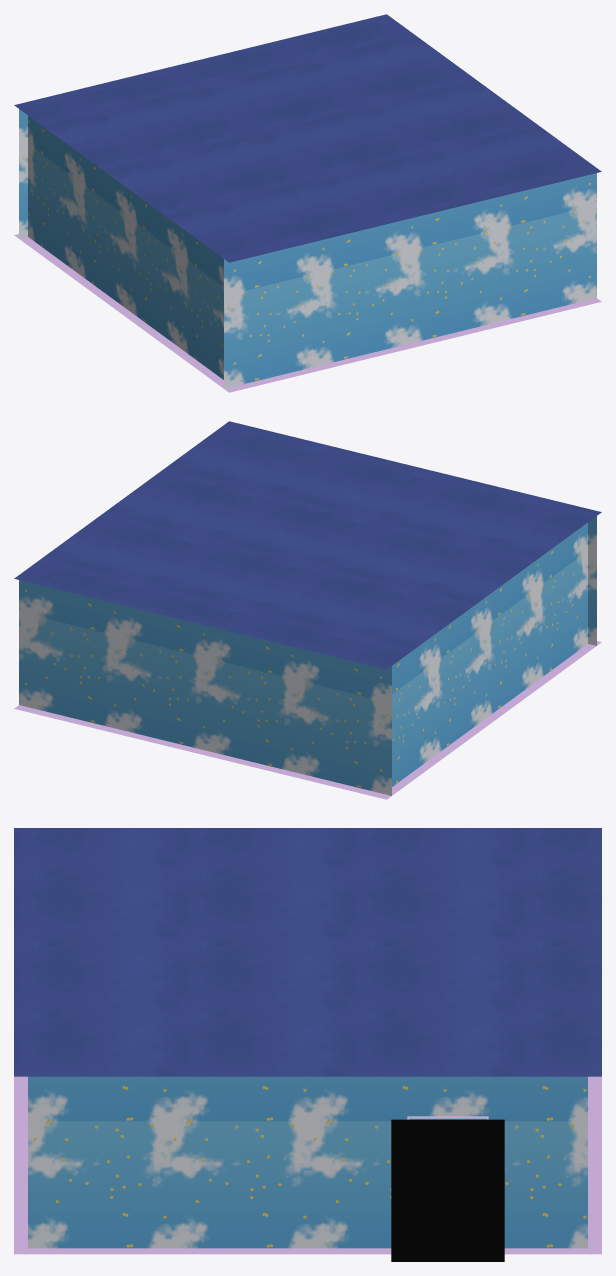
The model's file is rdwe_kids_bedroom.glb.
3 renders of one model, top to bottom at view 1: azimuth 30°, elevation 25°; view 2: azimuth 150°, elevation 25°; view 3: azimuth 270°, elevation 25°, orthographic. The views are drawn at different scales.
Visible parts, largest first — view 1: Ceil_Night, Wall_Clouds, Floor_Carpet_Lilac; view 2: Ceil_Night, Wall_Clouds, Floor_Carpet_Lilac; view 3: Ceil_Night, Wall_Clouds, Void, Floor_Carpet_Lilac.
Part boxes in pixels (x1,y1,x2,y2): Ceil_Night: (14, 14, 601, 262); Wall_Clouds: (19, 109, 596, 388); Floor_Carpet_Lilac: (14, 234, 601, 392); Ceil_Night: (14, 421, 601, 669); Wall_Clouds: (19, 516, 596, 795); Floor_Carpet_Lilac: (14, 641, 601, 799); Ceil_Night: (14, 828, 601, 1076); Wall_Clouds: (28, 1076, 587, 1248); Void: (391, 1119, 504, 1261); Floor_Carpet_Lilac: (14, 1076, 601, 1254).
Bounding box in the file's own units: 8.55 × 2.85 × 8.4.
Materials: 24 (17 with a texture image).
